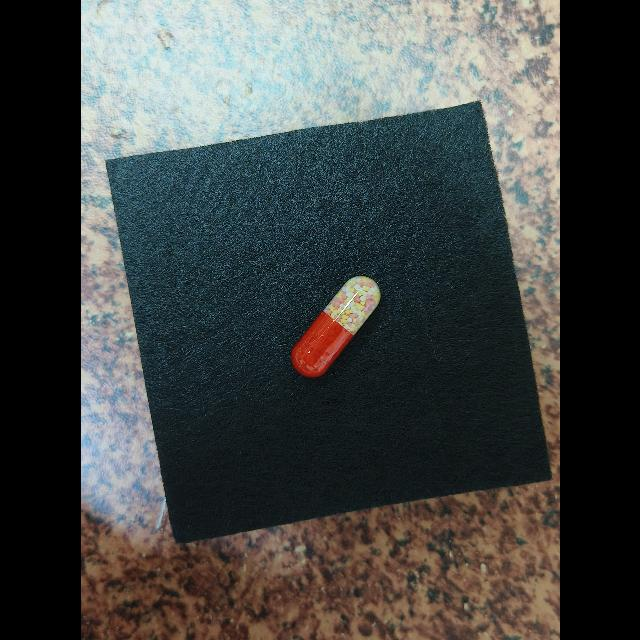Intact Capsule: (290, 275, 380, 377)
